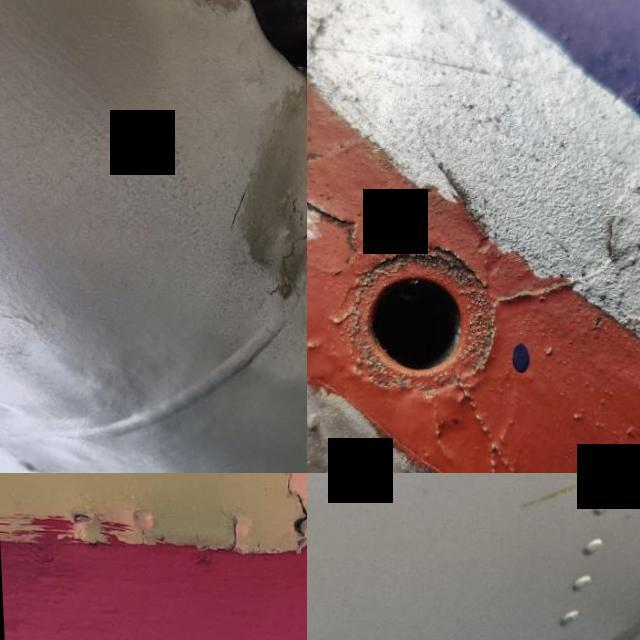Crack: (554, 570, 640, 640), (247, 473, 307, 559), (207, 499, 257, 564)
Dent: (164, 74, 307, 325)
Missing_Fastener: (307, 148, 579, 473)
